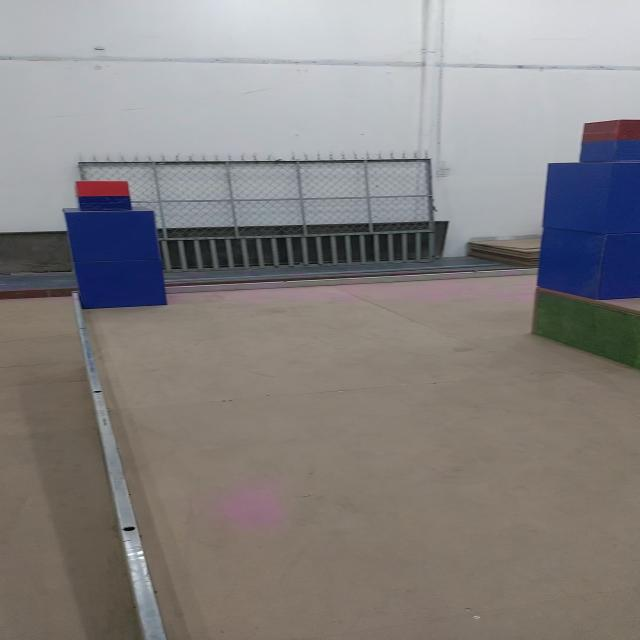earth_block: (59, 210, 162, 261), (66, 261, 170, 308)
sky_block: (74, 180, 133, 210)
